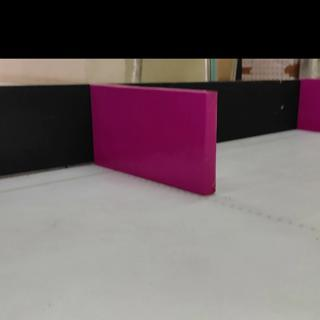xparking: (93, 95, 215, 183), (301, 80, 318, 132)
